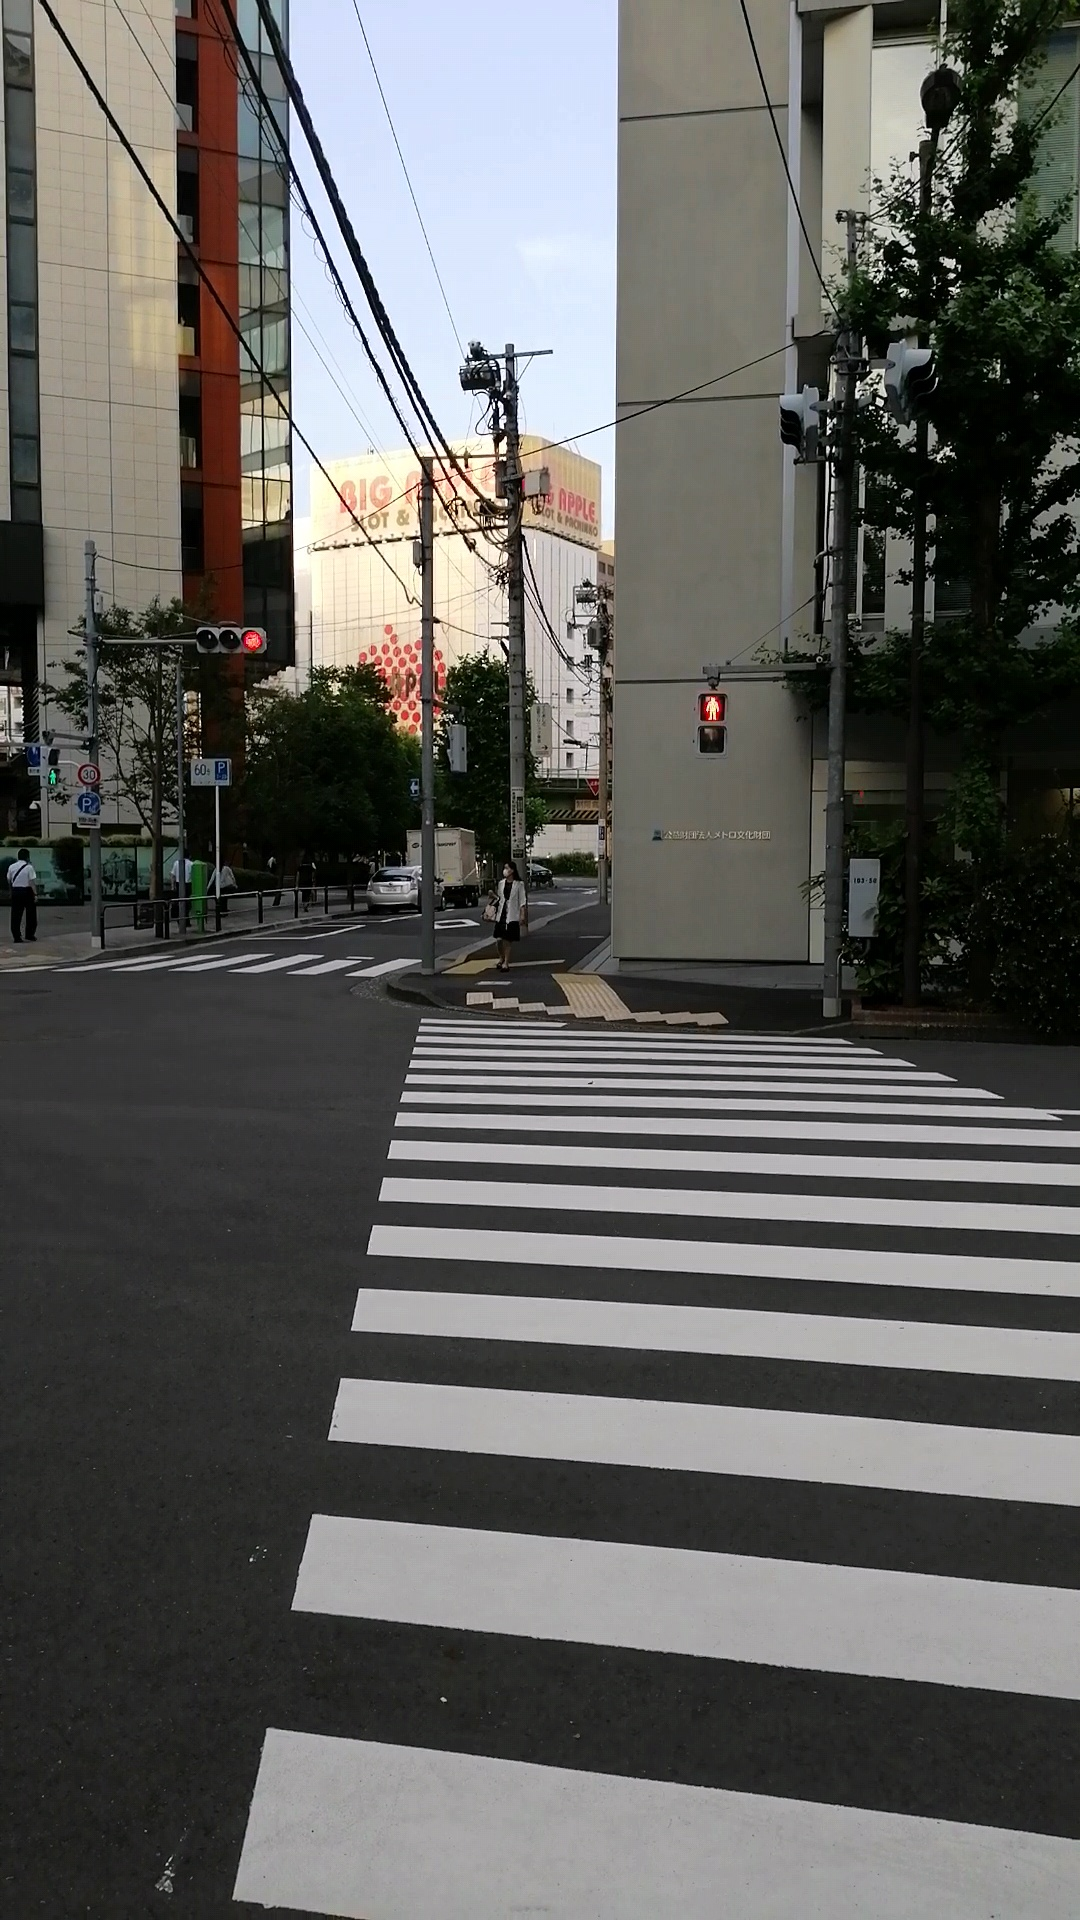red: (694, 691, 729, 758)
